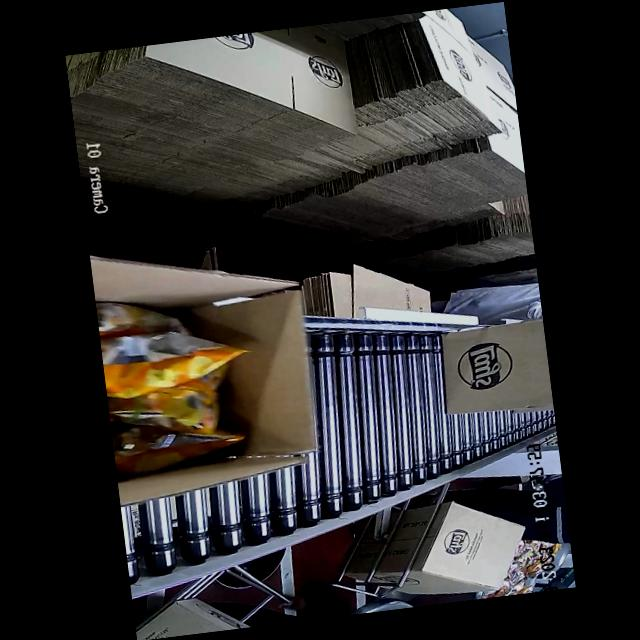cheese: (96, 288, 254, 474)
